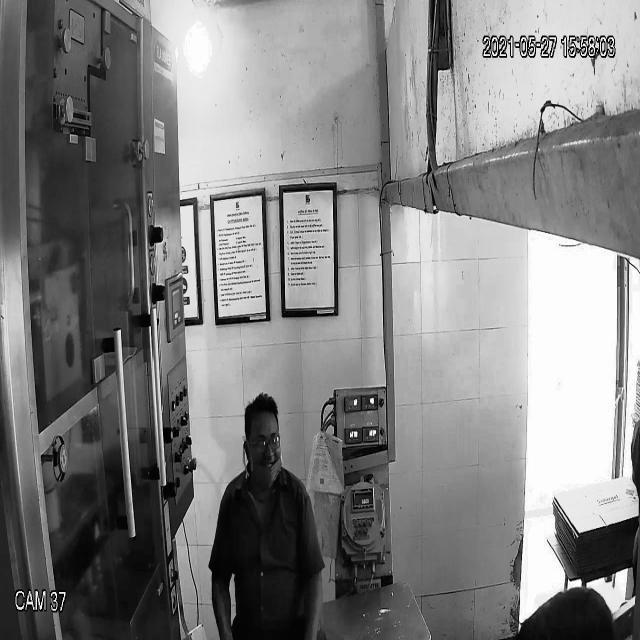glasses: (241, 426, 286, 460)
